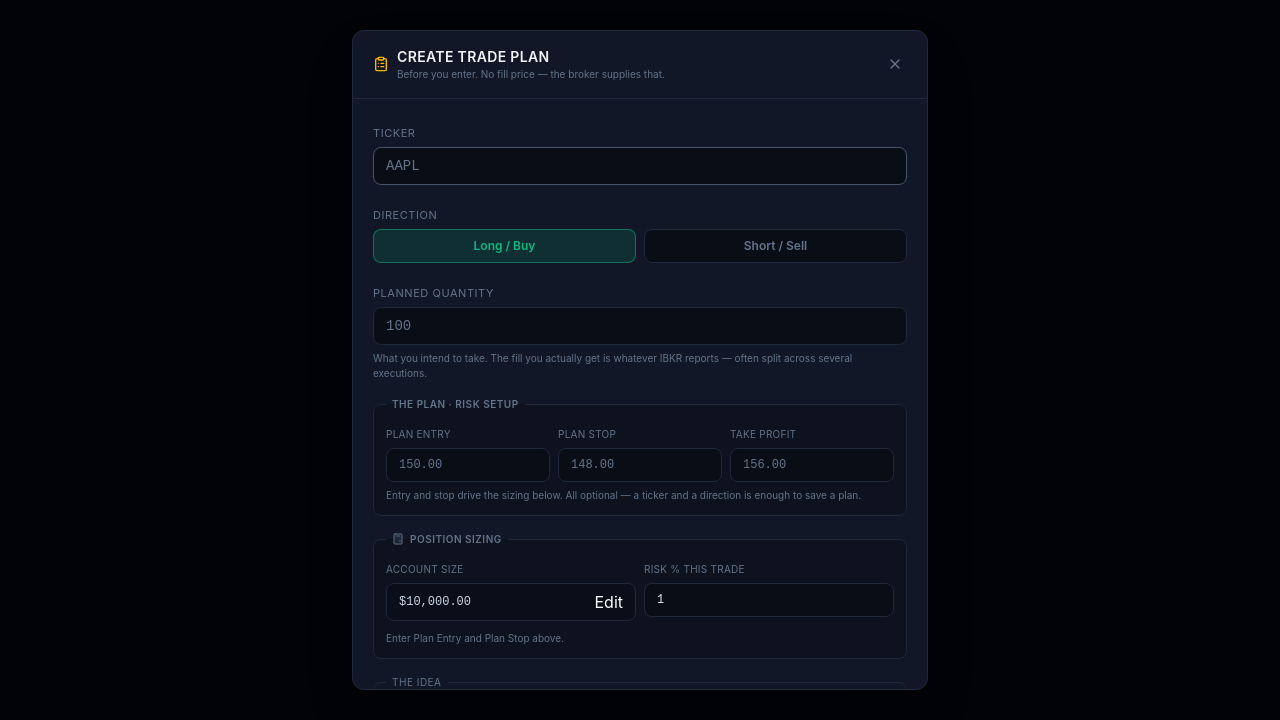
Test: validation › rejects a ticker over 10 characters
Expected: the text "Ticker" is shown, [373,126,416,140]
Step 1. Type "ABCDEFGHIJK" into the field with placeholder "AAPL" → [640, 166], box [373,147,907,185]
(page scrolled)
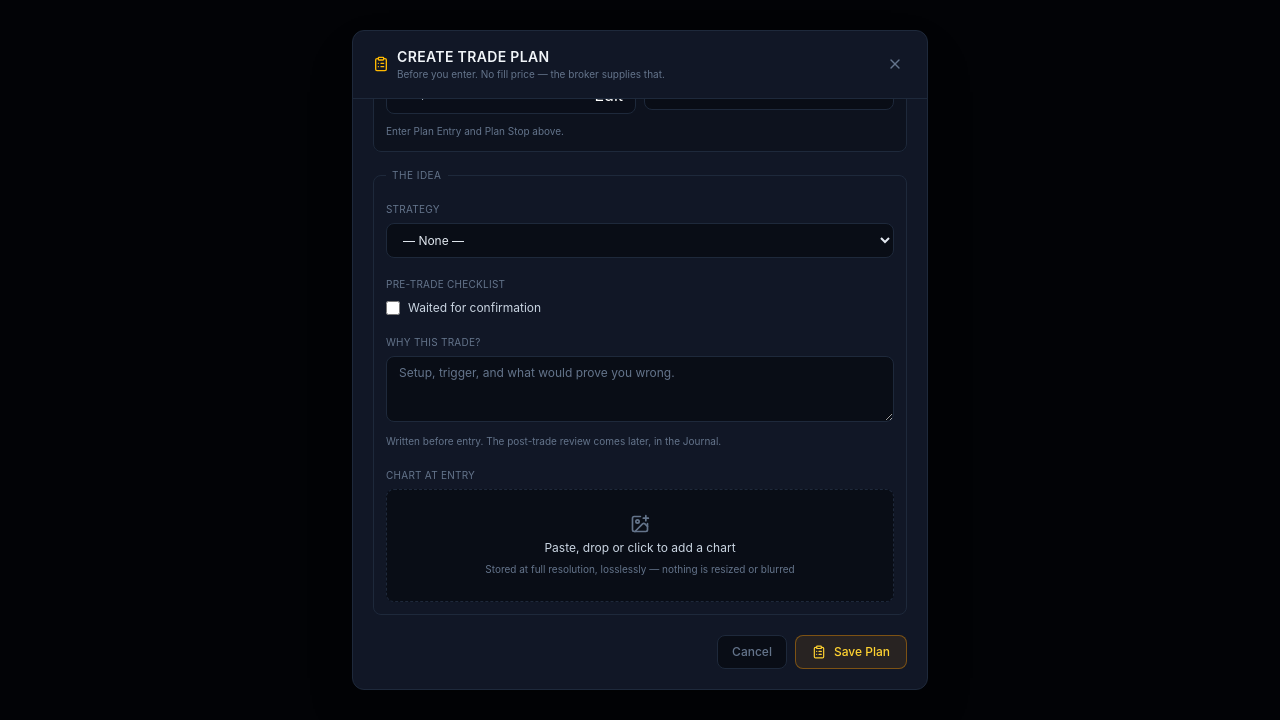
Step 2. Click the button "Save Plan" → [851, 652], box [795,635,907,669]
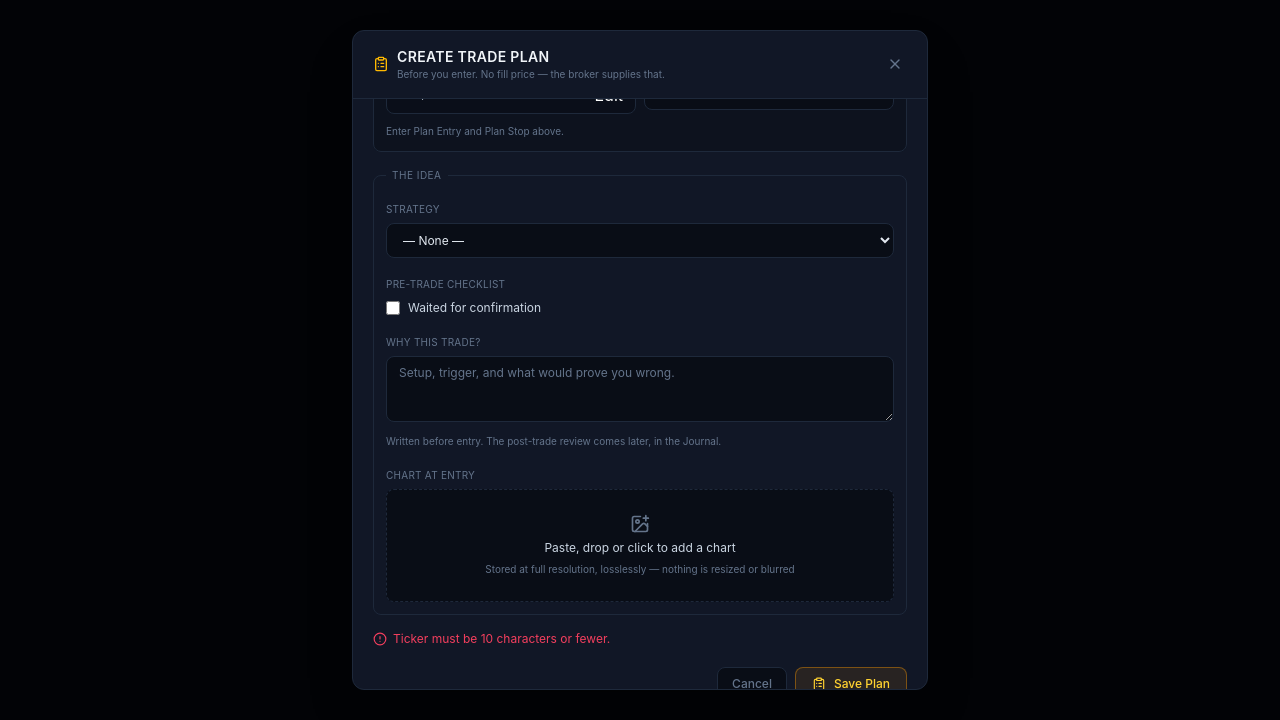
Now the text "Ticker must be 10 characters or fewer." is shown, box [393,631,610,647]
